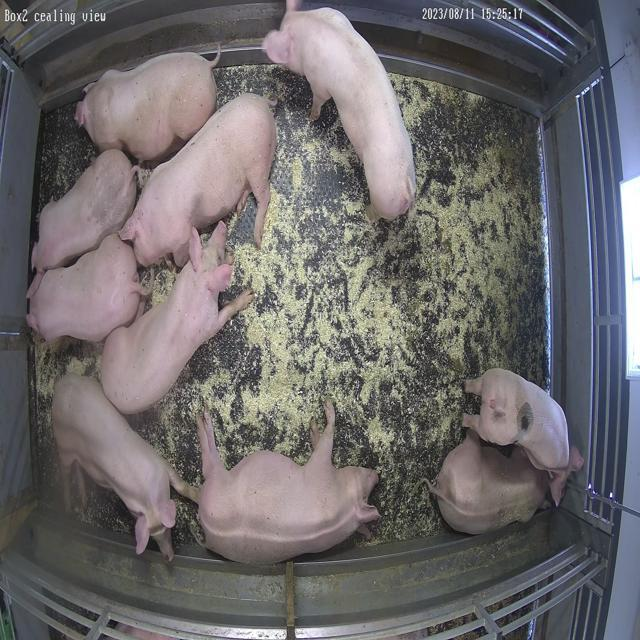Dirt: (467, 95, 543, 208), (509, 254, 550, 388)
Pig: (264, 0, 417, 220), (198, 402, 380, 564), (101, 222, 254, 414), (119, 93, 276, 266), (52, 374, 191, 564), (26, 149, 139, 298), (464, 369, 585, 506), (74, 52, 219, 162), (426, 430, 549, 536), (26, 234, 145, 342)
